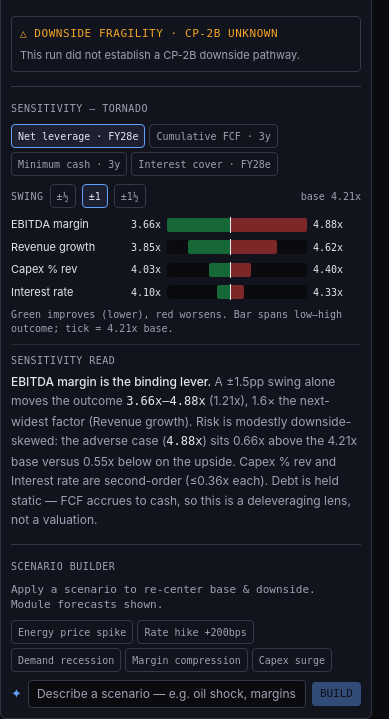
Test: ScenarioPanel › the NL builder applies the mocked scenarioFromNL result
(page scrolled)
Replace the text in the field labelled "Describe a scenario" with "oil shock" at (167, 694), box x1=28 y1=680 x2=306 y2=708
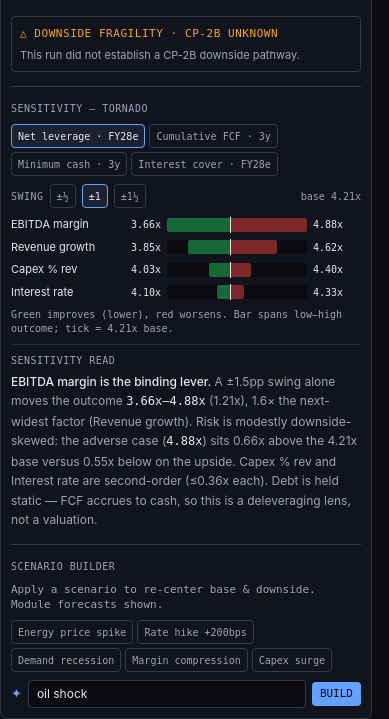
Click the button "BUILD" at (336, 694), box x1=312 y1=682 x2=361 y2=706
(page scrolled)
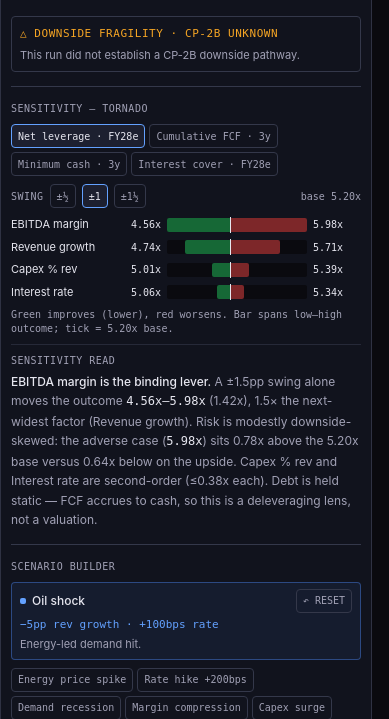
Expected: the text "Oil shock" is shown, x1=32 y1=592 x2=85 y2=610
Expected: the text "Energy-led demand hit." is shown, x1=20 y1=637 x2=141 y2=651
Expected: the text "−5pp rev growth · +100bps rate" is shown, x1=20 y1=618 x2=219 y2=631
